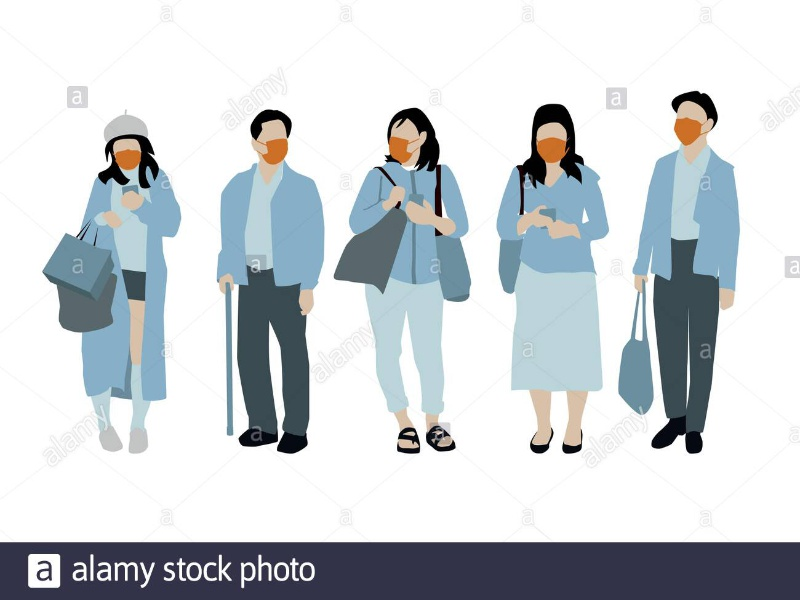ManaoArotava: (526, 100, 591, 189), (100, 113, 163, 192), (241, 108, 301, 180), (666, 88, 726, 160), (380, 107, 431, 184)
